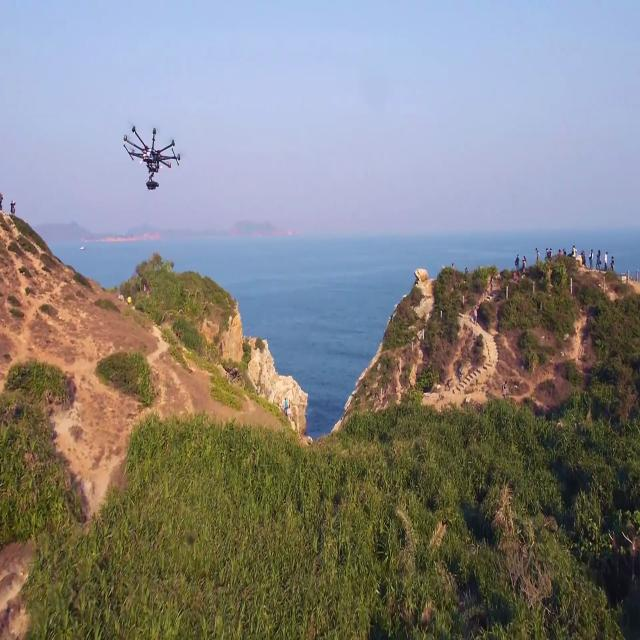drone: (121, 108, 197, 188)
